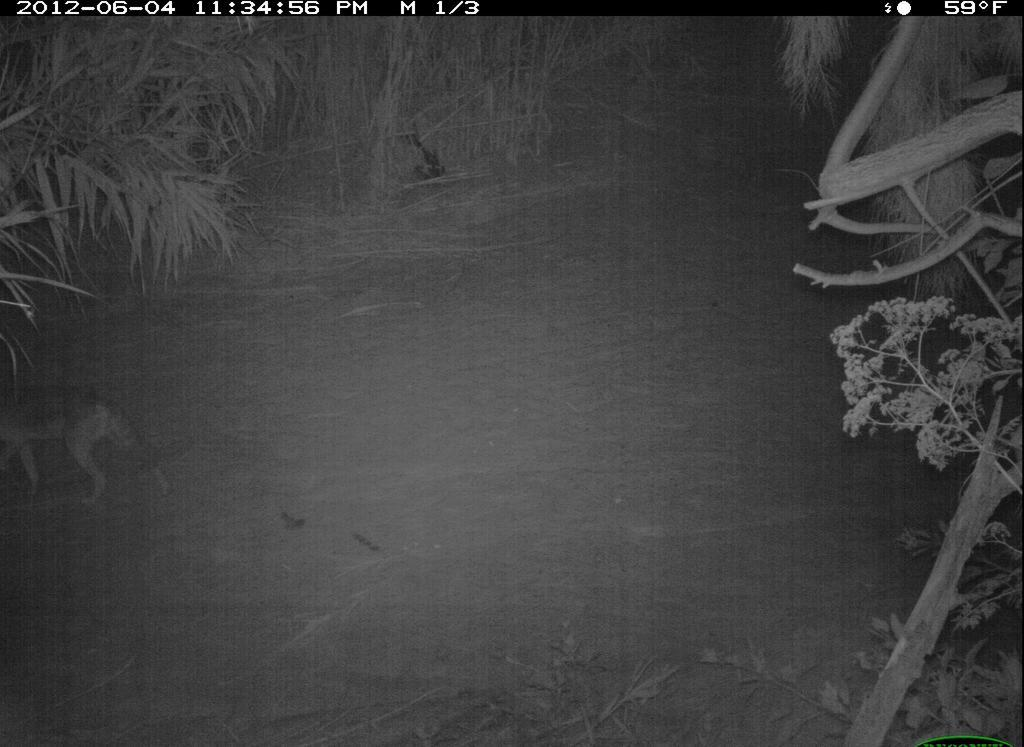coyote: (4, 368, 190, 539)
